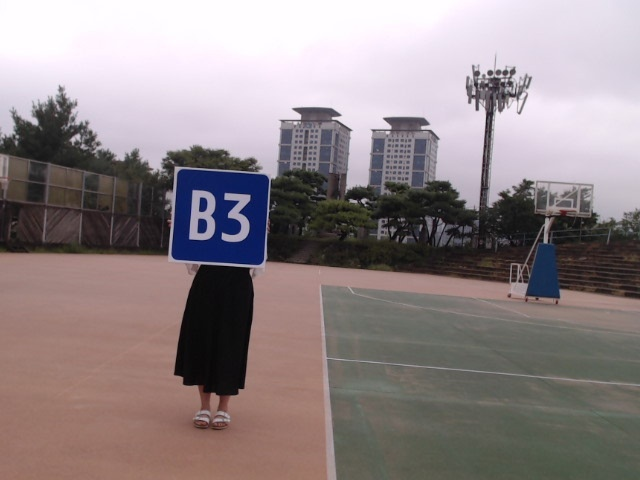delivery_b3: (170, 167, 271, 267)
